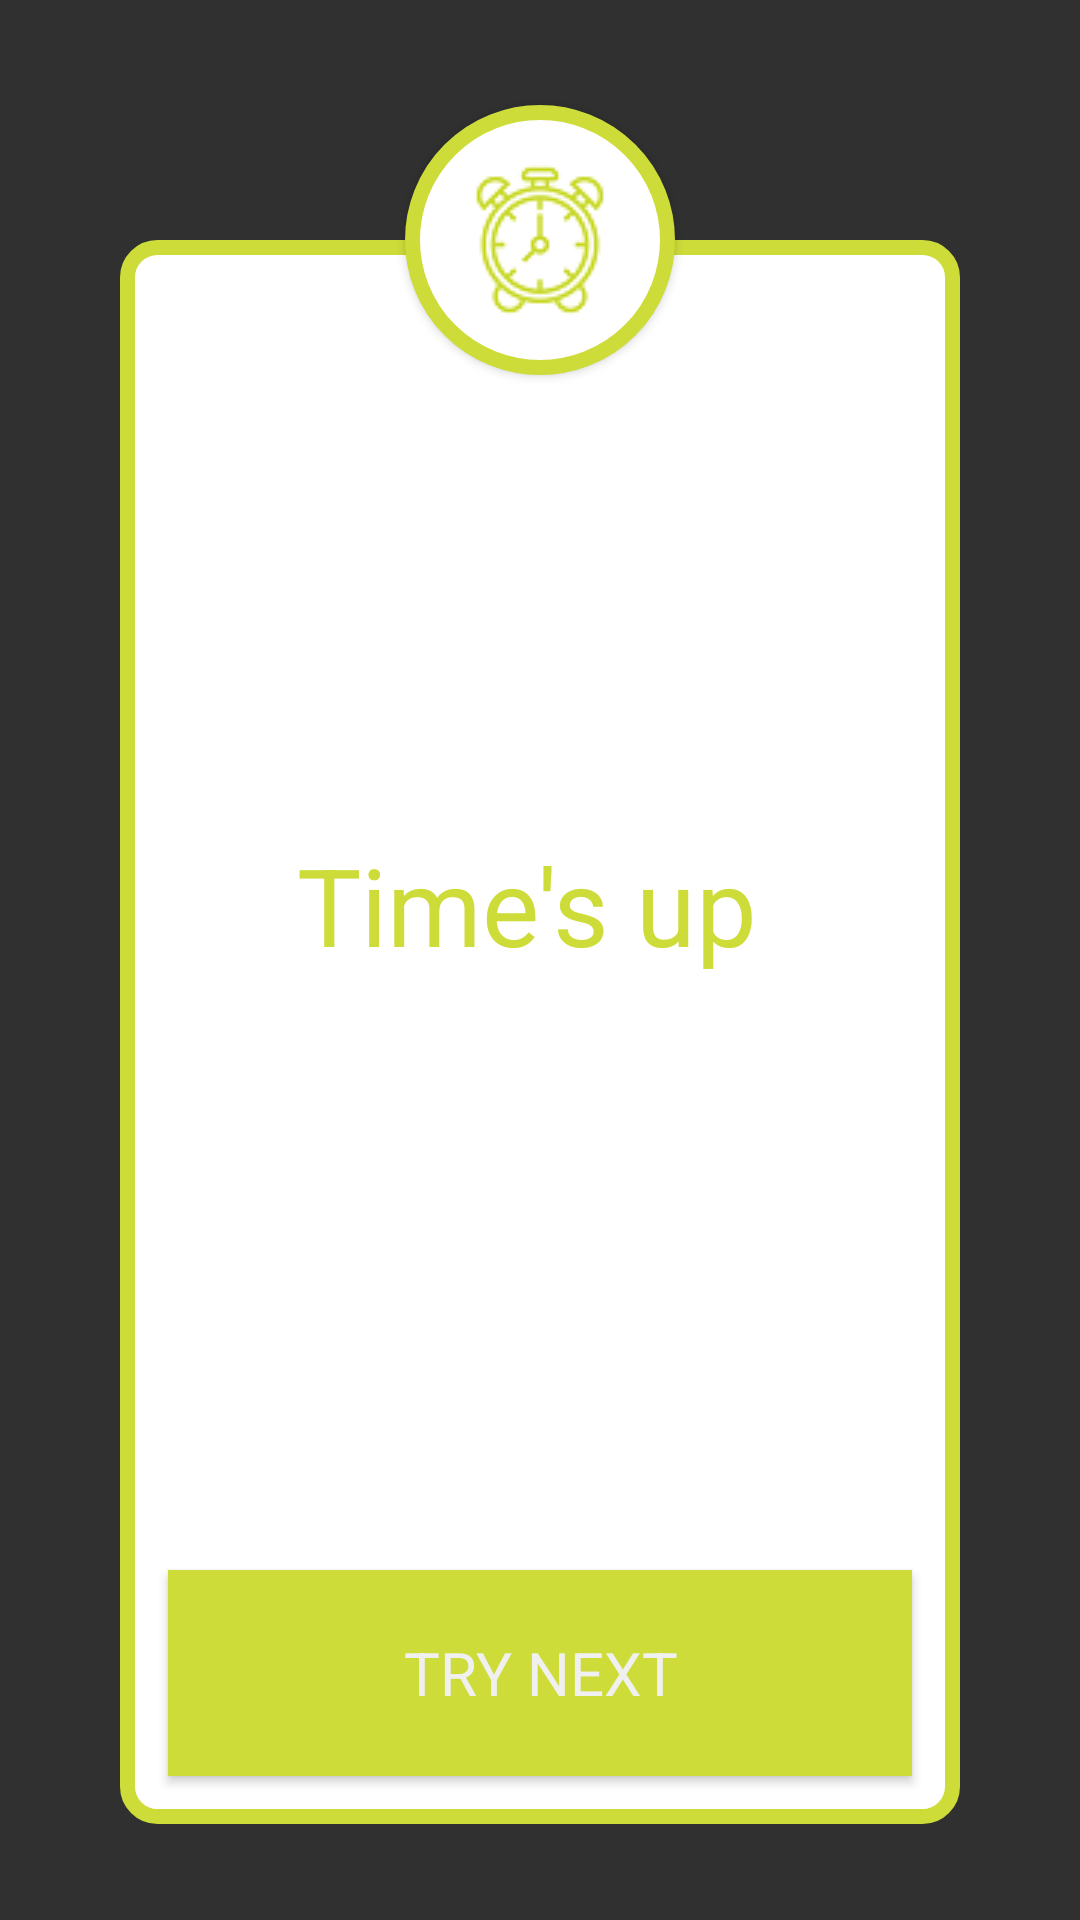

Named icons in this screenshot (1080 × 1920) and their centers, [x,y]:
clock: [540,240]
